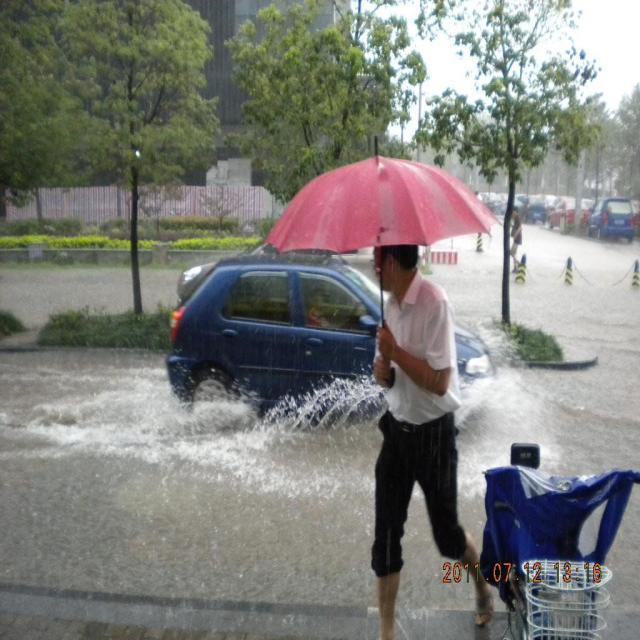car: (165, 256, 495, 422)
